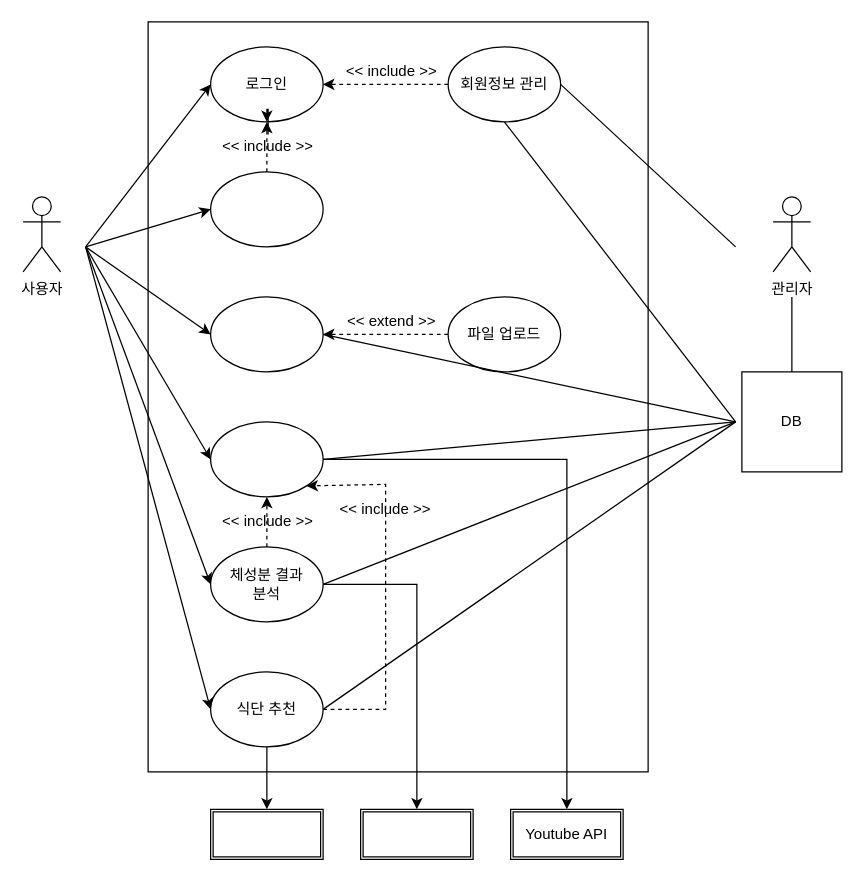
Image size: 864x881. Some labels were removed from this diagram. Here are the shapes that lost their labels. From the top down, the centre of each, then its label:
At [266,209]: "회원가입".
At [266,334]: "게시글 보기".
At [266,459]: "맞춤형 운동 영상 시청".
At [266,833]: "Chat GPT".
At [416,833]: "Clova OCR".
